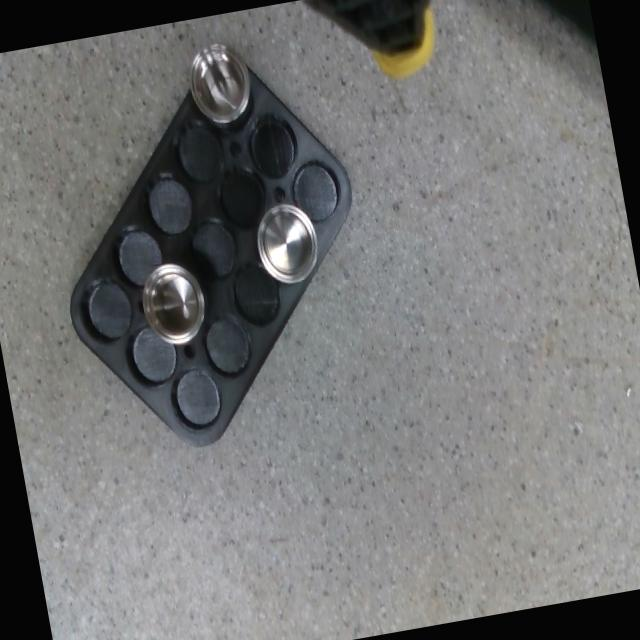sensor: (134, 258, 210, 348), (250, 196, 323, 288), (183, 39, 255, 126)
